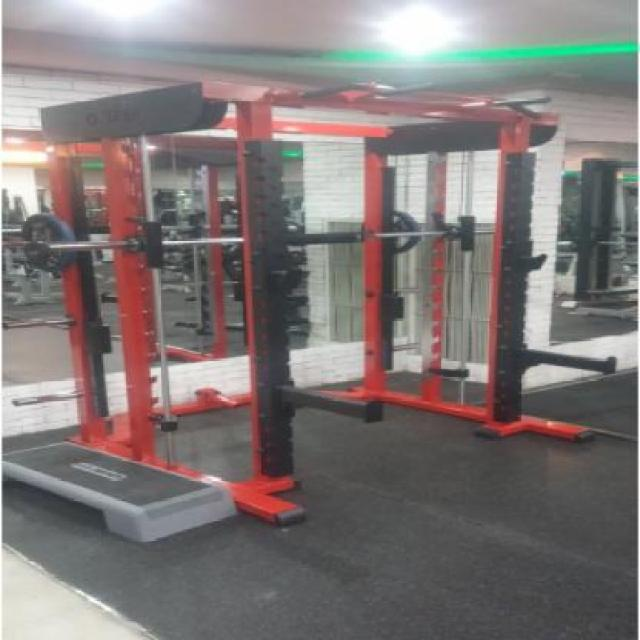smith machine: (40, 80, 603, 529)
